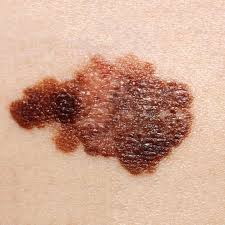Melanoma: (10, 54, 193, 176)
